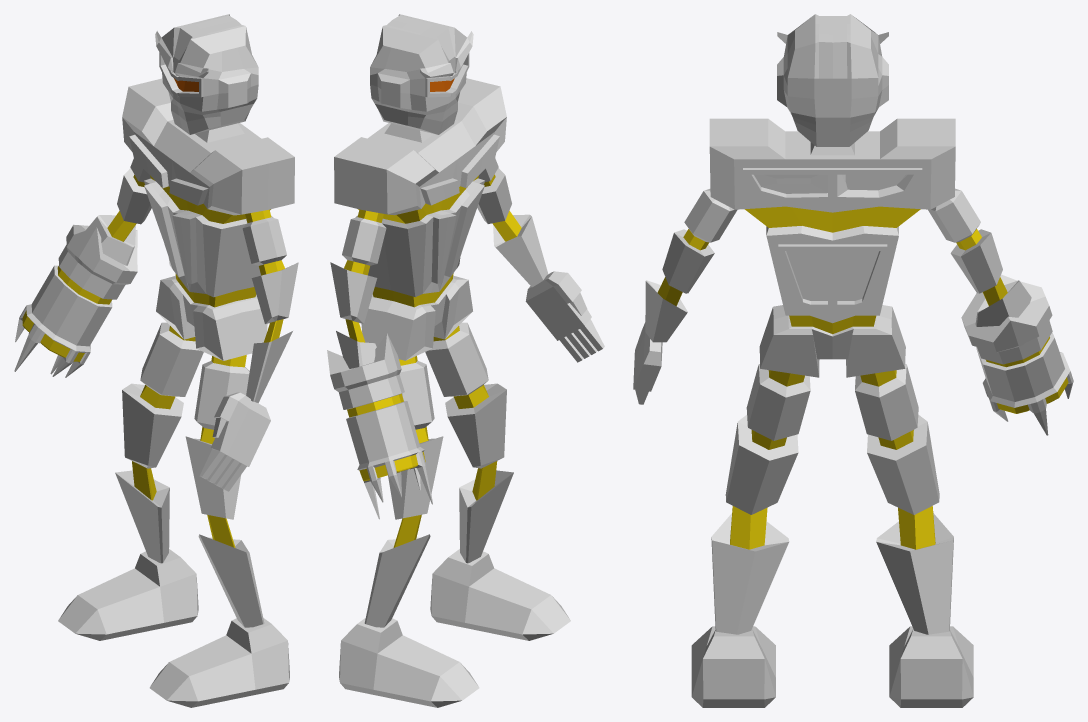
File: bossOnly.fbx
3 renders of one model, left to right at view 1: azimuth 30°, elevation 25°; view 2: azimuth 150°, elevation 25°; view 3: azimuth 270°, elevation 25°, orthographic. The views are drawn at different scales.
Visible parts, largest first — view 1: Cube.004; view 2: Cube.004; view 3: Cube.004.
Part boxes in pixels (box(x1,y1,x2,y2)): Cube.004: box(14, 14, 298, 707); Cube.004: box(327, 14, 604, 707); Cube.004: box(633, 14, 1073, 707).
Size of the model in its own units: 856 by 3601 by 2138.
